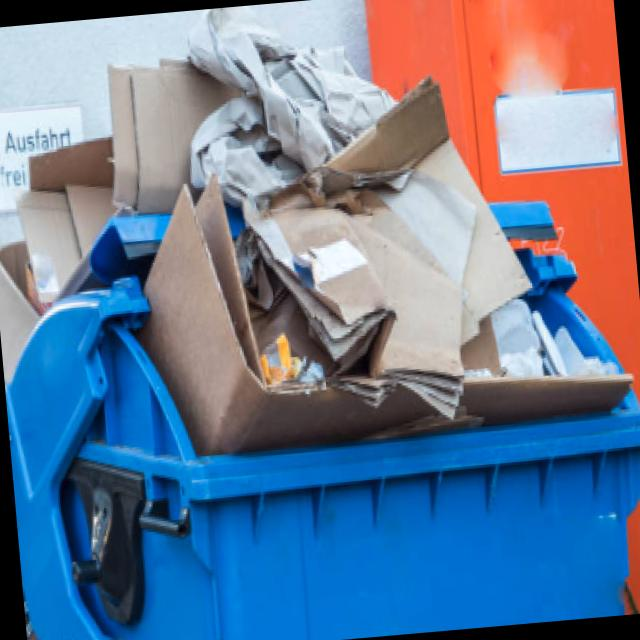Kardus: (132, 10, 588, 448)
